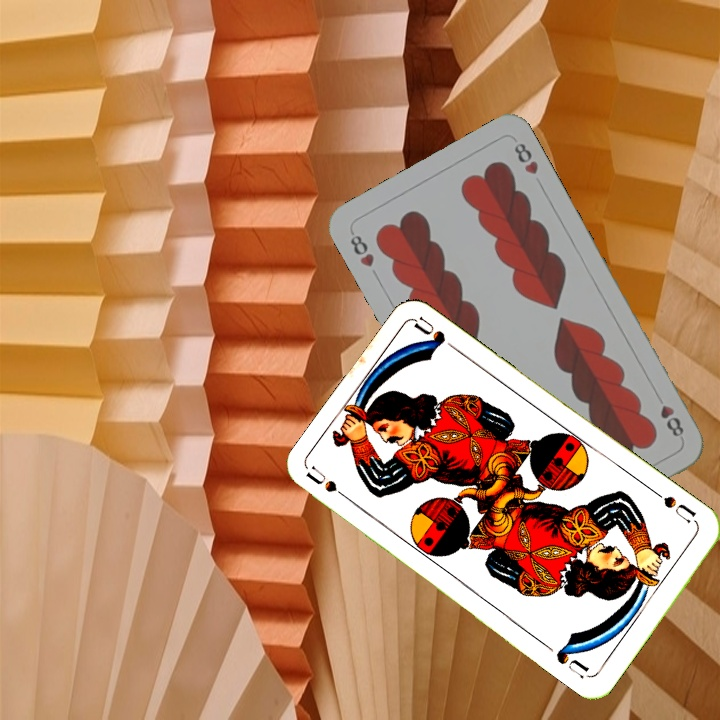H8: (346, 227, 377, 270), (656, 400, 687, 440)
SU: (303, 462, 357, 507), (649, 486, 701, 527)
